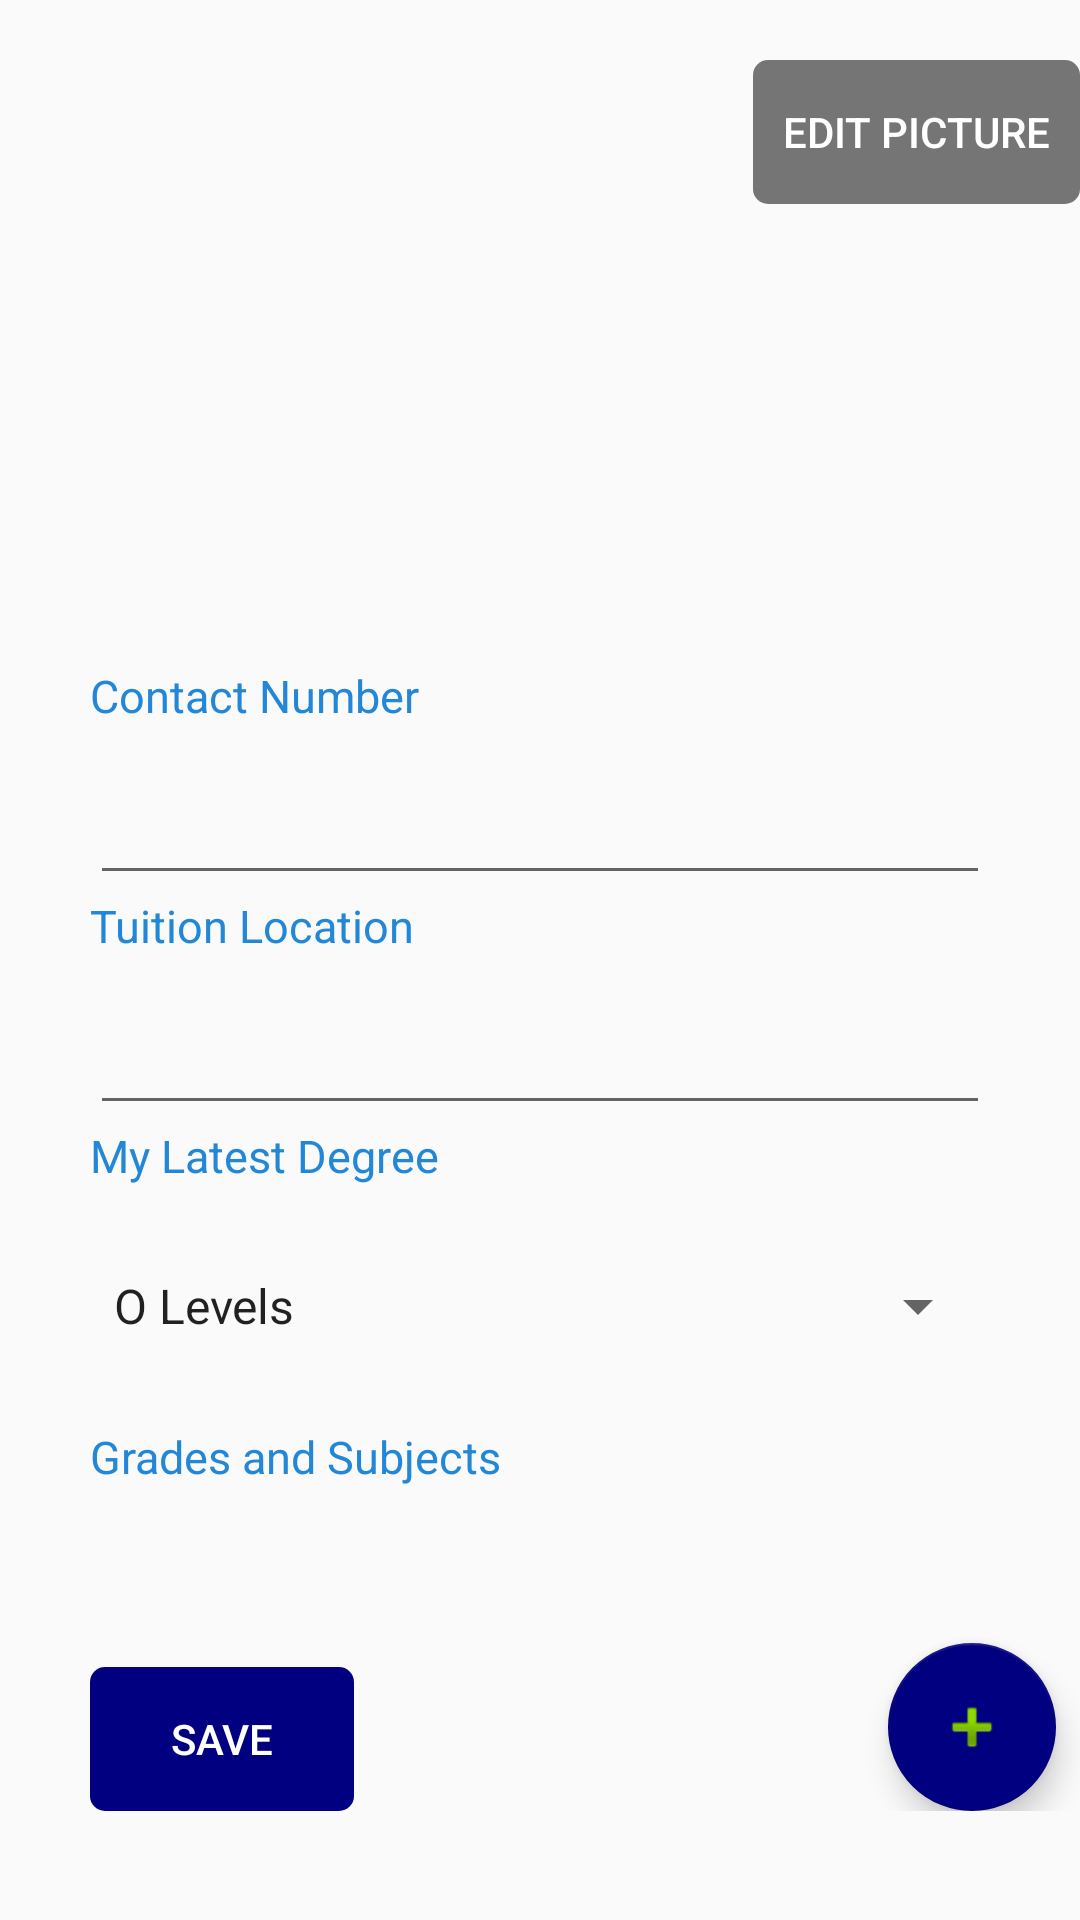

Locate icon controls on the screen. Image size 1080x1920, boxes as box=[x1, y1, x2, y2].
add: box=[888, 1643, 1056, 1811]
